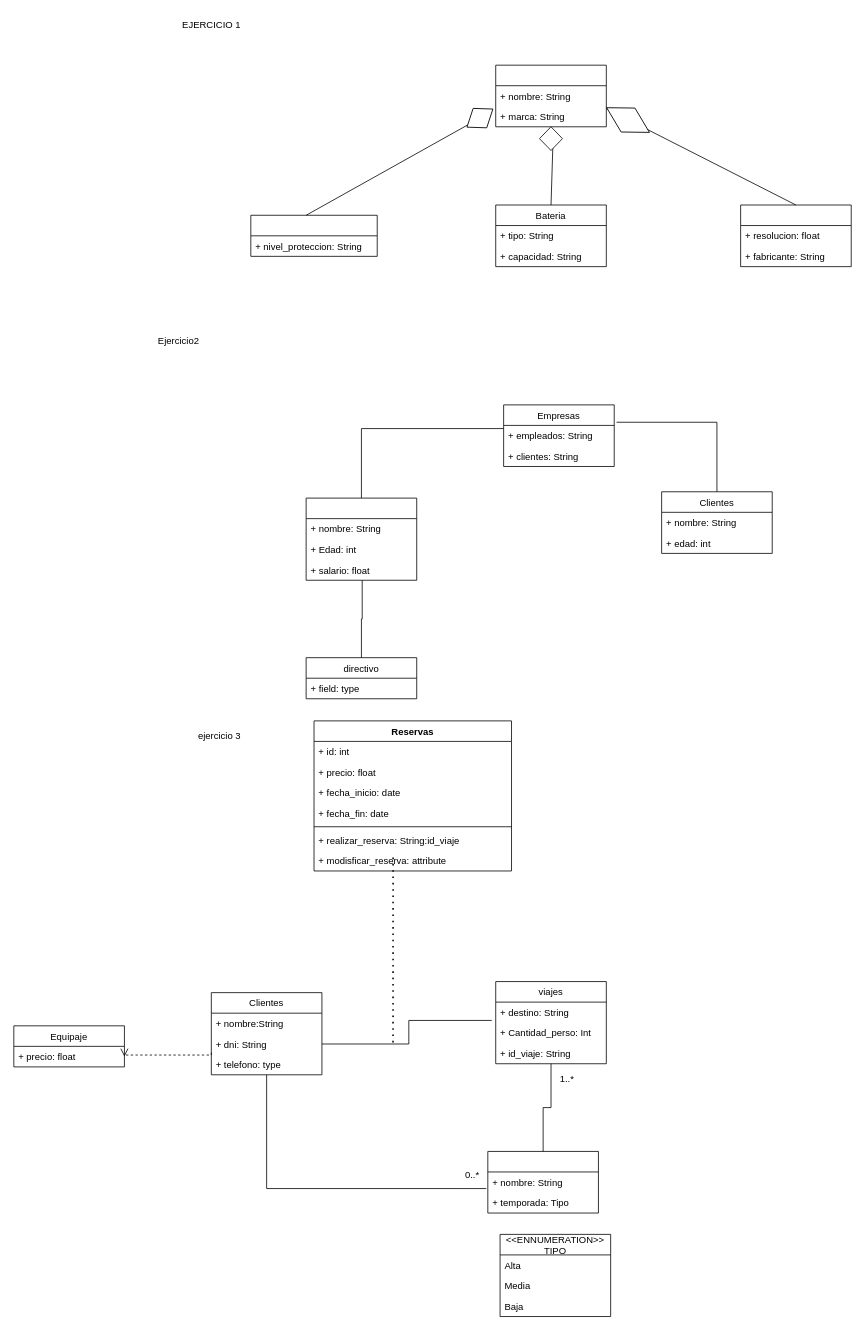
The diagram is 865 pixels wide and 1332 high, and some of its shapes have lost their labels. The shapes that lost their labels are listed below. From the top down, each one's box as (x1, y1, x2, y2) in pixels, then its label:
(495, 64, 606, 127): Telefono
(250, 214, 377, 256): Pantalla
(740, 204, 851, 267): Camara
(305, 497, 417, 580): Empleados
(487, 1151, 598, 1213): catalogos
